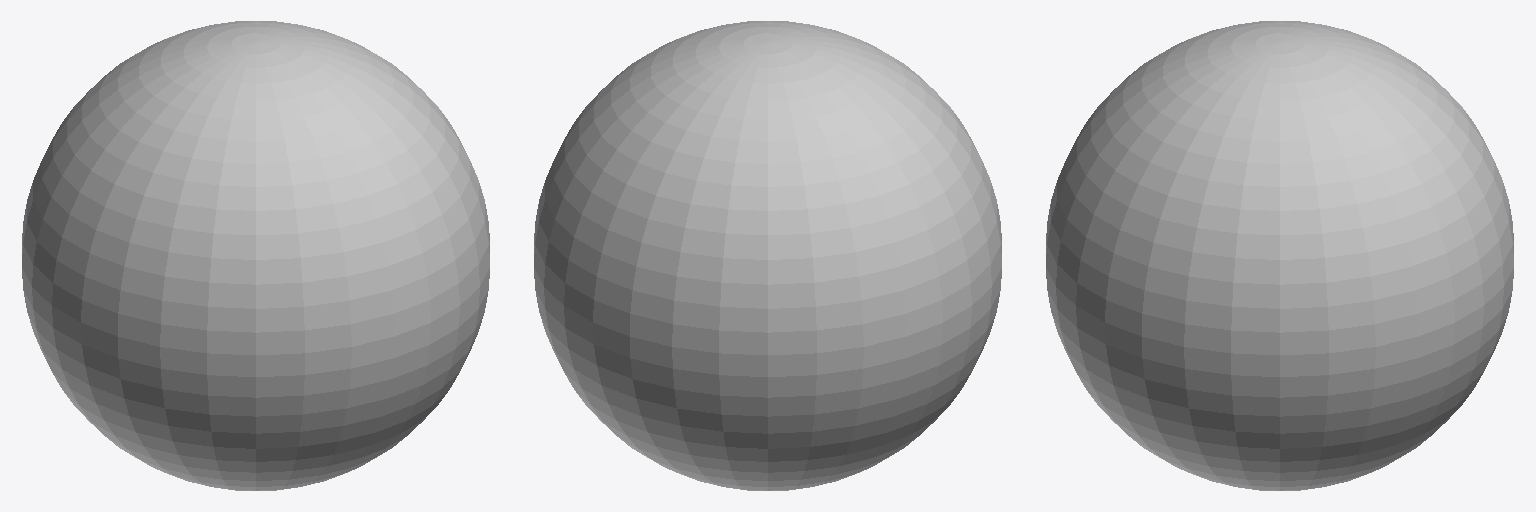
The model's file is sphereMeshDown.obj.
The picture shows the model from 3 angles: view 1: azimuth 30°, elevation 25°; view 2: azimuth 150°, elevation 25°; view 3: azimuth 270°, elevation 25°; orthographic projection.
Visible parts, largest first — view 1: pSphere1; view 2: pSphere1; view 3: pSphere1.
Part boxes in pixels (x1,y1,x2,y2): pSphere1: (22, 21, 489, 490); pSphere1: (534, 21, 1001, 490); pSphere1: (1046, 21, 1513, 490).
Size of the model in its own units: 2 by 2 by 1.99.